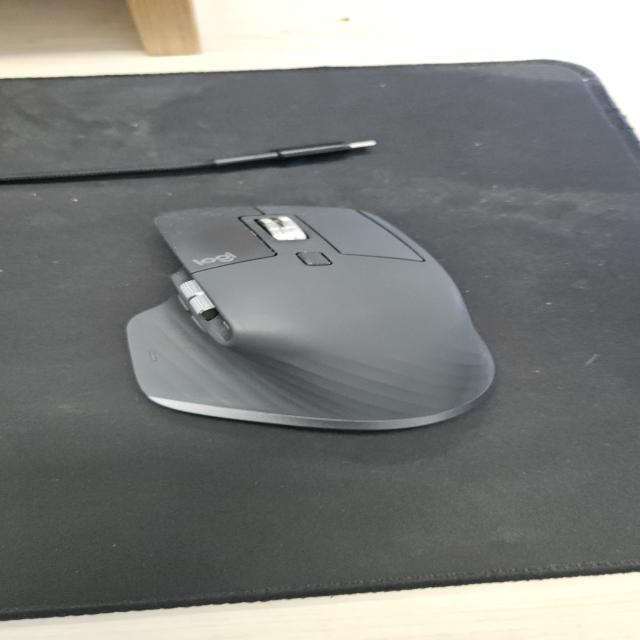Mouse: (122, 202, 500, 432)
